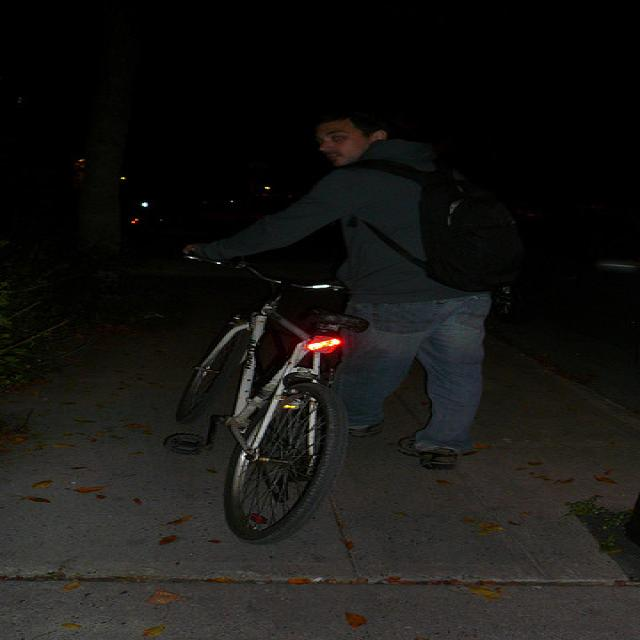Bicycle: (163, 248, 376, 549)
People: (301, 102, 552, 456)
